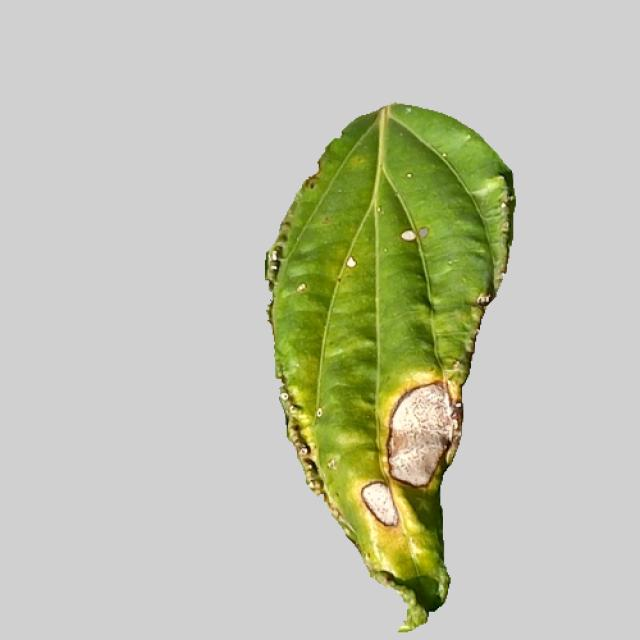leaf-blight: (247, 106, 530, 634)
